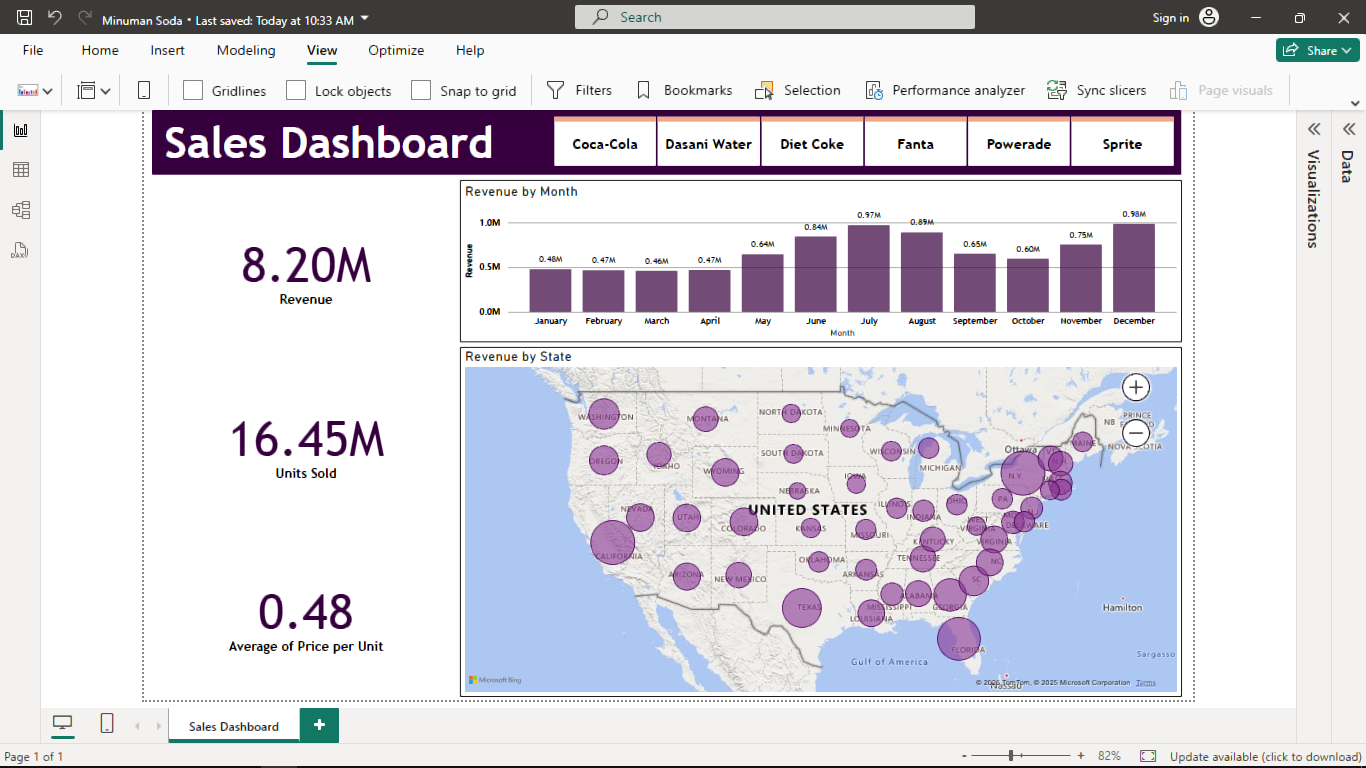

Layout of this report page (visuals, bound fields, positions):
{"tool":"powerbi","page":{"name":"Sales Dashboard","canvas":[1280,720],"ordinal":0},"visuals":[{"type":"shape","box":[9.9,0,1256.5,79.1],"z":0},{"type":"card","fields":{"Values":["Data.Revenue"]},"box":[10,94,376,198],"z":1000},{"type":"card","fields":{"Values":["Data.Price per Unit"]},"box":[10,518,376,198],"z":2000},{"type":"card","fields":{"Values":["Data.Units Sold"]},"box":[10,306,376,198],"z":3000},{"type":"columnChart","fields":{"Category":["Data.Month Name"],"Y":["Data.Revenue"]},"box":[385.7,84.9,880.7,198],"z":4000},{"type":"map","fields":{"Category":["Data.State"],"Size":["Data.Revenue"]},"box":[385.7,289.3,880.7,426.9],"z":5000},{"type":"slicer","fields":{"Values":["Data.Beverage Brand"]},"box":[474.3,1.4,805.7,74.3],"z":6000}]}

Visuals, with their boxes on the page's 1280x720 design canvas (x1, y1, x2, y2). These are canvas units, not pixel positions in the 1366x768 screenshot, which may show the page scaled, cropped or inside an application window:
shape: bbox(10, 0, 1266, 79)
card - Data.Revenue: bbox(10, 94, 386, 292)
card - Data.Price per Unit: bbox(10, 518, 386, 716)
card - Data.Units Sold: bbox(10, 306, 386, 504)
columnChart - Data.Month Name x Data.Revenue: bbox(386, 85, 1266, 283)
map - Data.State x Data.Revenue: bbox(386, 289, 1266, 716)
slicer - Data.Beverage Brand: bbox(474, 1, 1280, 76)
